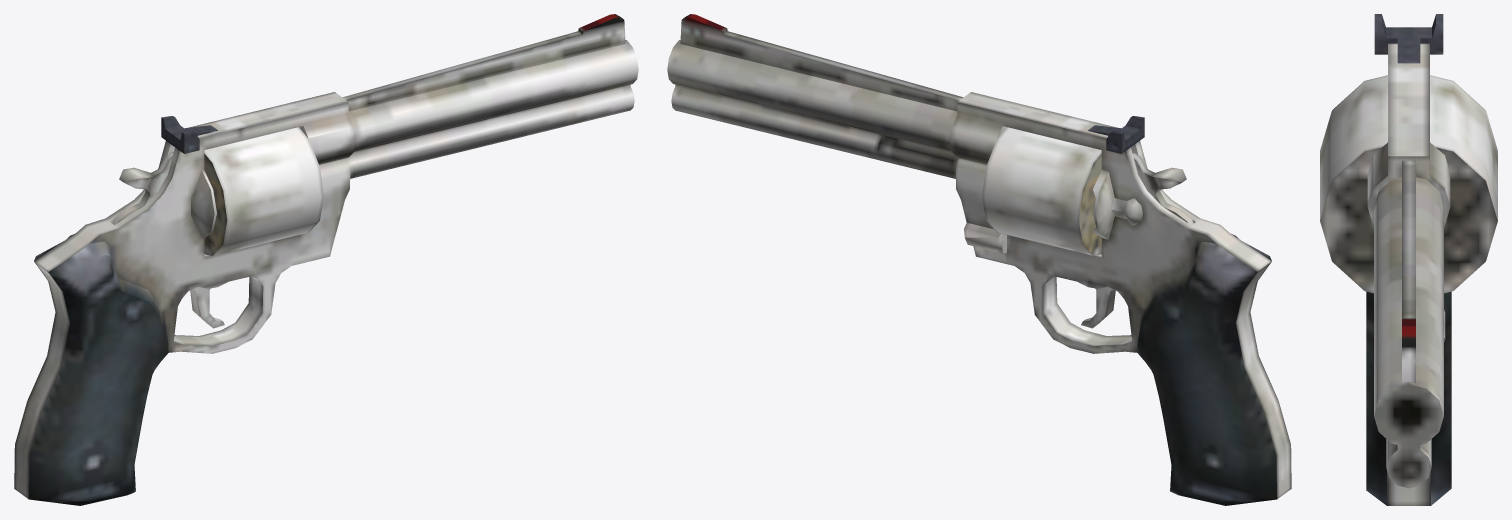
File: Gun.obj
3 renders of one model, left to right at view 1: azimuth 30°, elevation 25°; view 2: azimuth 150°, elevation 25°; view 3: azimuth 270°, elevation 25°, orthographic. The views are drawn at different scales.
Parts seen in each view (by area): view 1: Joker_Gun; view 2: Joker_Gun; view 3: Joker_Gun.
Part boxes in pixels (bbox=[...]): Joker_Gun: bbox=[14, 14, 638, 505]; Joker_Gun: bbox=[667, 14, 1291, 505]; Joker_Gun: bbox=[1320, 14, 1497, 505].
Bounding box in the file's own units: 1.39 × 0.7748 × 0.2353.
